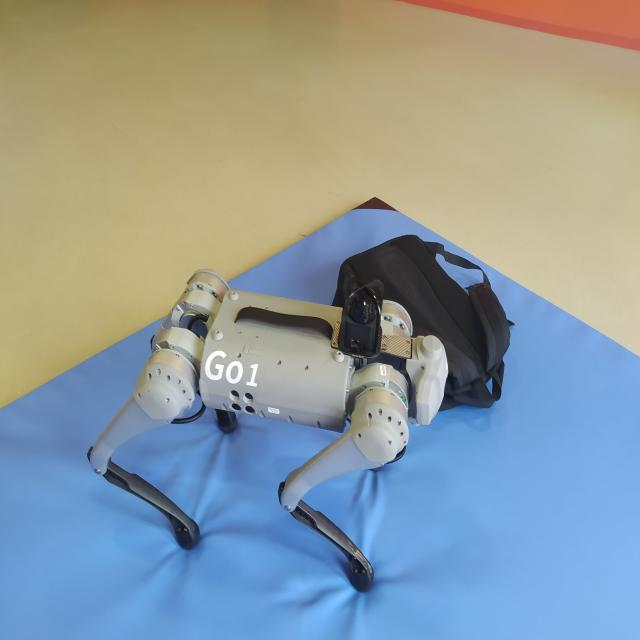unitree-go1-robot: (92, 272, 450, 593)
